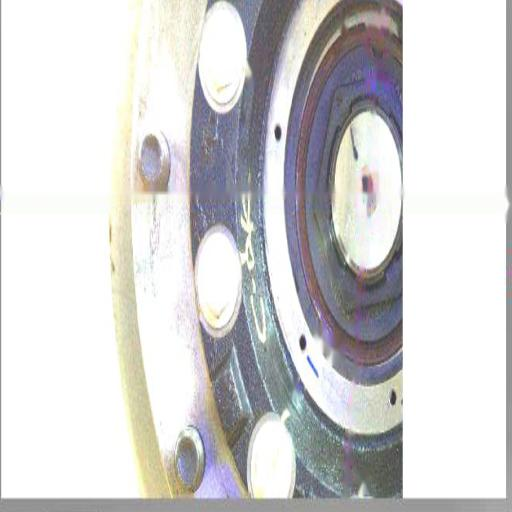center: (358, 164, 373, 206)
notch: (370, 41, 385, 69)
